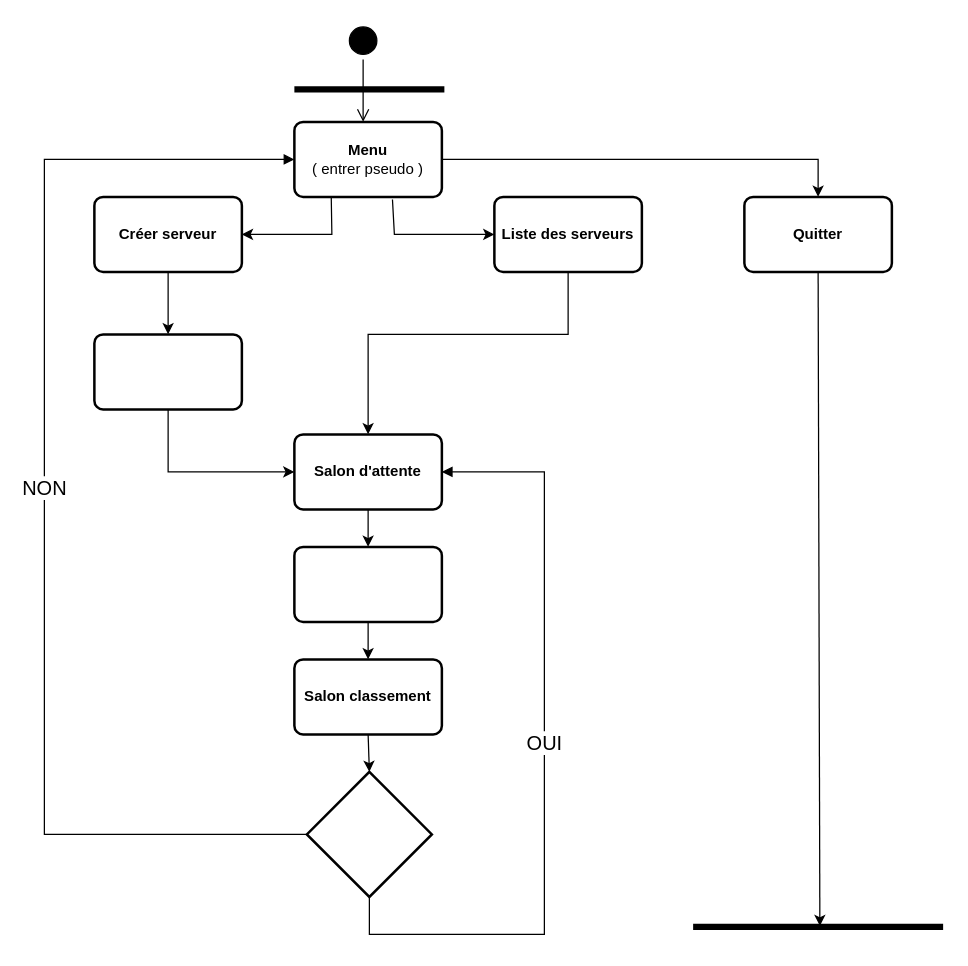
This 968x966 diagram has some shape labels left out. The shapes that lost their labels are listed below. From the top down, each one's box as (x1, y1, x2, y2) in pixels, then its label:
(92, 332, 242, 410): Saisir info serveur
(292, 545, 442, 622): Jeu
(305, 770, 432, 898): Rejouer
